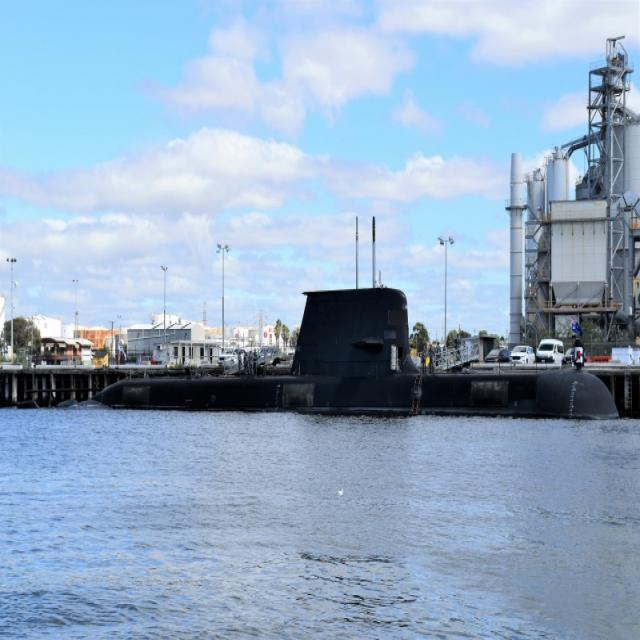submarine: (71, 284, 629, 414)
